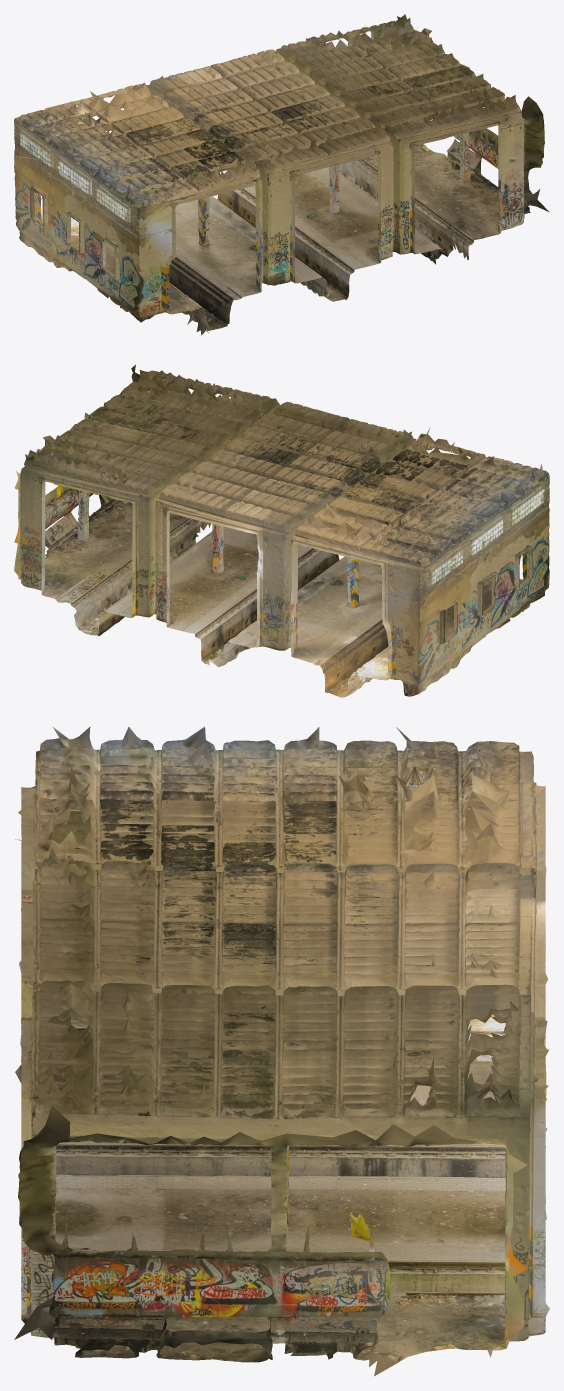
The model's file is sf-decayed-concrete-train-shed-with-graffit-6ac088.glb.
3 views of the same model, one above another, from view 1: azimuth 30°, elevation 25°; view 2: azimuth 150°, elevation 25°; view 3: azimuth 270°, elevation 25° (orthographic). The views are drawn at different scales.
Visible parts, largest first — view 1: depo_depo_u2_v3_0, depo_depo_u1_v2_0, depo_depo_u2_v1_0, depo_depo_u3_v2_0, depo_depo_u1_v3_0, depo_depo_u3_v1_0, depo_depo_u1_v1_0, depo_depo_u2_v2_0; view 2: depo_depo_u1_v1_0, depo_depo_u2_v2_0, depo_depo_u2_v1_0, depo_depo_u3_v2_0, depo_depo_u1_v2_0, depo_depo_u2_v3_0, depo_depo_u1_v3_0, depo_depo_u3_v1_0; view 3: depo_depo_u1_v2_0, depo_depo_u2_v1_0, depo_depo_u2_v2_0, depo_depo_u3_v2_0, depo_depo_u1_v3_0, depo_depo_u1_v1_0, depo_depo_u3_v1_0, depo_depo_u2_v3_0.
Part boxes in pixels (x1,y1,x2,y2): depo_depo_u2_v3_0: [57, 102, 323, 322]; depo_depo_u1_v2_0: [215, 14, 549, 262]; depo_depo_u2_v1_0: [19, 66, 497, 295]; depo_depo_u3_v2_0: [97, 14, 459, 335]; depo_depo_u1_v3_0: [96, 99, 326, 335]; depo_depo_u3_v1_0: [259, 64, 493, 301]; depo_depo_u1_v1_0: [14, 66, 249, 261]; depo_depo_u2_v2_0: [211, 19, 460, 227]; depo_depo_u1_v1_0: [221, 479, 469, 697]; depo_depo_u2_v2_0: [19, 429, 264, 664]; depo_depo_u2_v1_0: [99, 375, 465, 697]; depo_depo_u3_v2_0: [14, 419, 511, 632]; depo_depo_u1_v2_0: [14, 364, 341, 667]; depo_depo_u2_v3_0: [278, 428, 549, 653]; depo_depo_u1_v3_0: [277, 429, 495, 654]; depo_depo_u3_v1_0: [103, 377, 339, 613]; depo_depo_u1_v2_0: [14, 911, 549, 1376]; depo_depo_u2_v1_0: [20, 748, 546, 1319]; depo_depo_u2_v2_0: [307, 918, 549, 1363]; depo_depo_u3_v2_0: [15, 767, 546, 1347]; depo_depo_u1_v3_0: [15, 769, 354, 1176]; depo_depo_u1_v1_0: [337, 727, 546, 1158]; depo_depo_u3_v1_0: [21, 913, 337, 1323]; depo_depo_u2_v3_0: [21, 726, 353, 1153].
Size of the model in its own units: 18.24 by 6.59 by 10.35.
8 materials, 8 textured.
